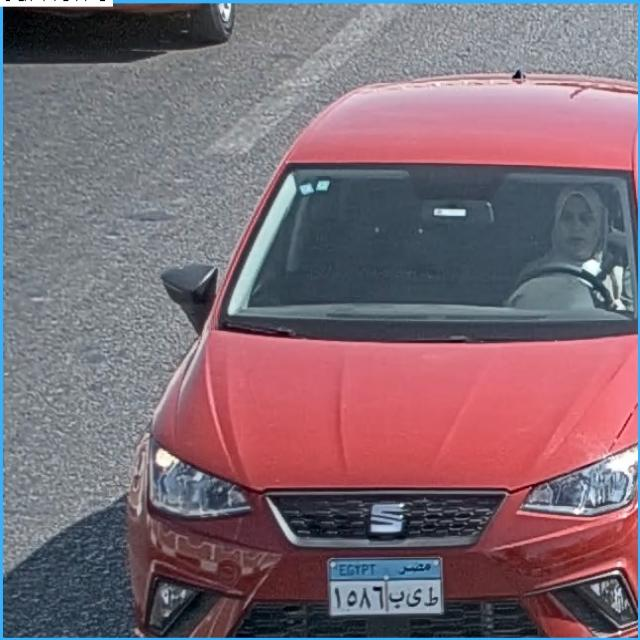windshield: (226, 168, 634, 336)
